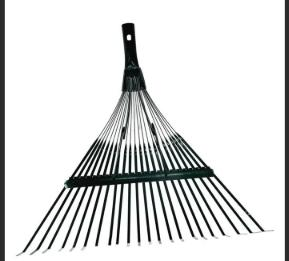RATEAU: (0, 0, 259, 261)
